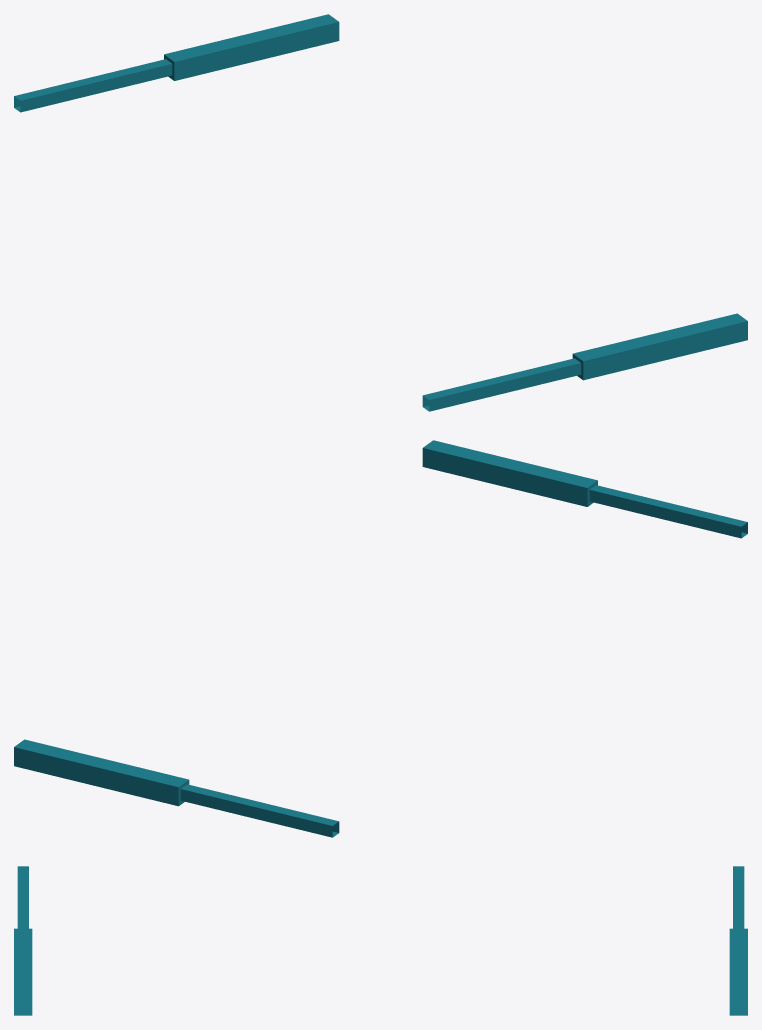
The model's file is Mesh_ArenaWall_Right_Door_Extender.FBX.
3 views of the same model, one above another, from view 1: azimuth 30°, elevation 25°; view 2: azimuth 150°, elevation 25°; view 3: azimuth 270°, elevation 25° (orthographic). The views are drawn at different scales.
Visible parts, largest first — view 1: Mesh_ArenaWall_Right_Door_Extender; view 2: Mesh_ArenaWall_Right_Door_Extender; view 3: Mesh_ArenaWall_Right_Door_Extender.
Part boxes in pixels (x1,y1,x2,y2): Mesh_ArenaWall_Right_Door_Extender: [14, 14, 747, 411]; Mesh_ArenaWall_Right_Door_Extender: [14, 440, 747, 837]; Mesh_ArenaWall_Right_Door_Extender: [14, 866, 747, 1015].
Size of the model in its own units: 1078 by 2473 by 62.02.
